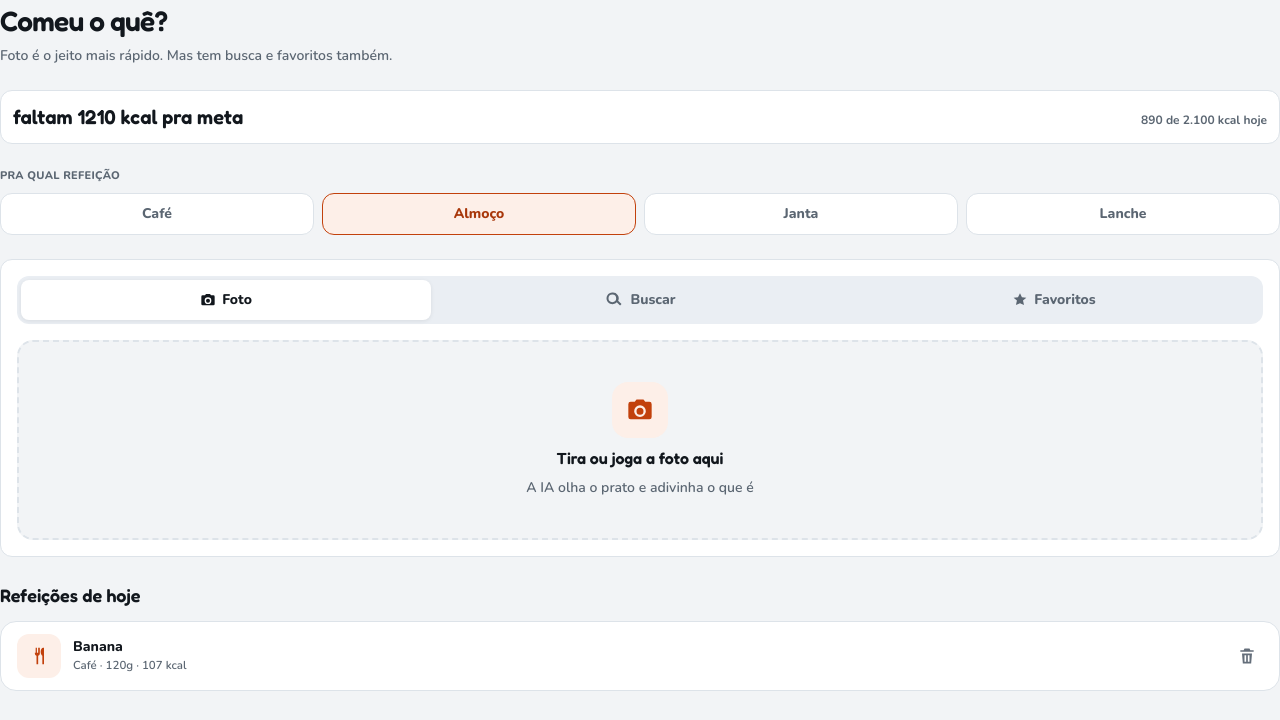
NutritionPage › keeps the meal when the person backs out
Click the button named "Remover Banana" at (1247, 656), box [1231,640,1263,672]
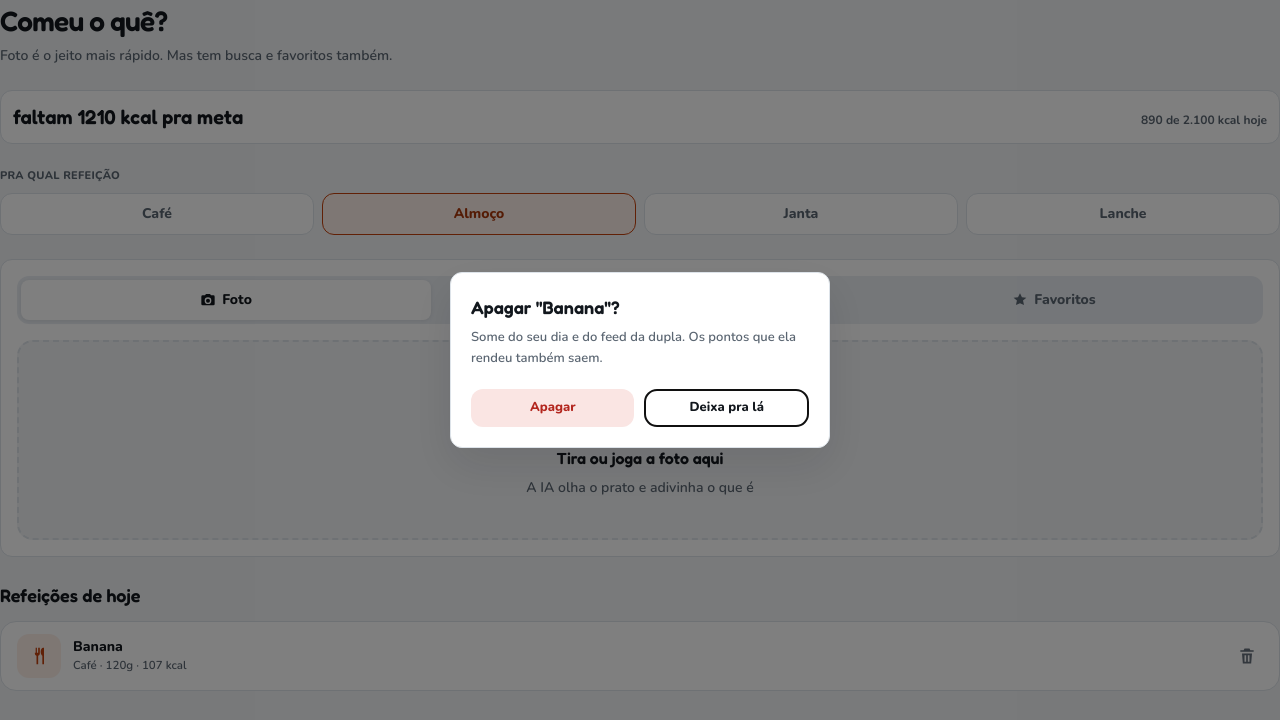
Click the button "Deixa pra lá" at (727, 408), box [644,389,809,427]
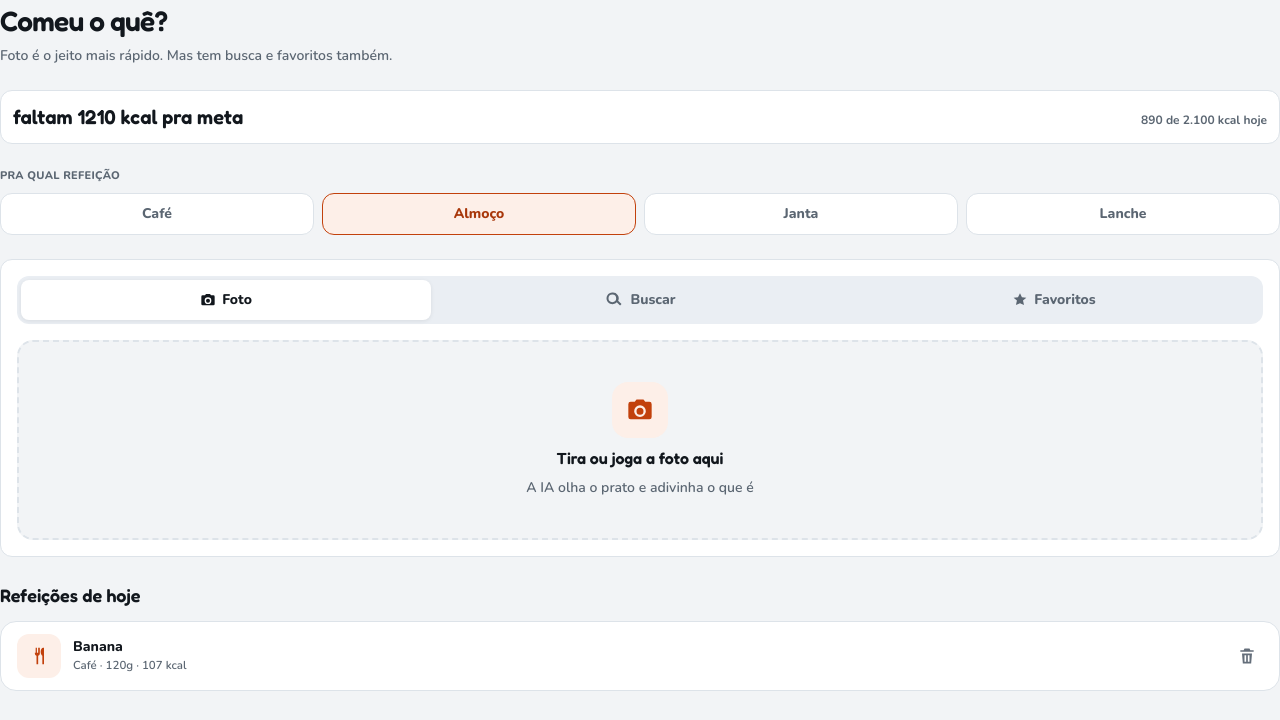
Now the dialog is gone
